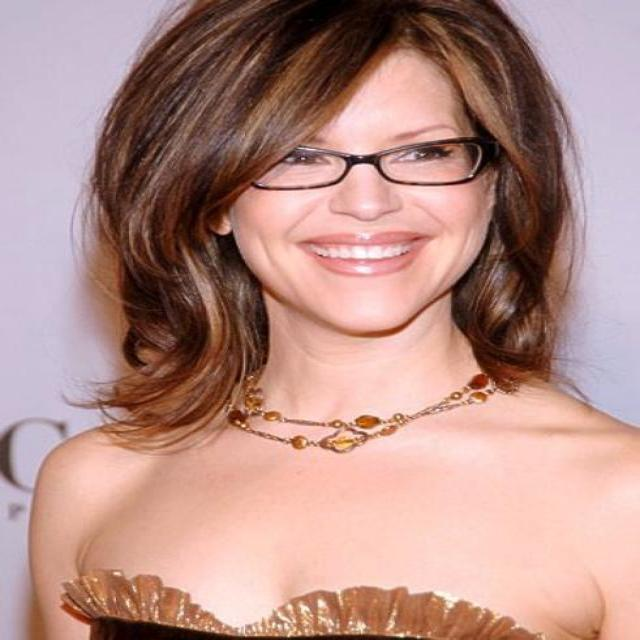glasses: (229, 135, 506, 189)
